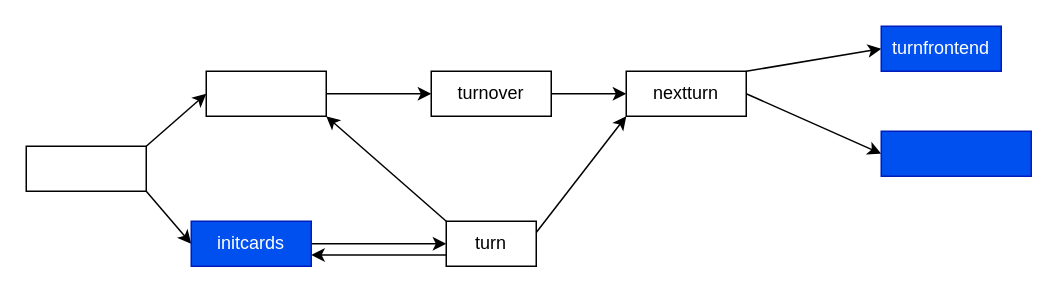
Image size: 1058x294. Some labels were removed from this diagram. The centre of each missing label's shape, as x and y in pixels:
counterfrontend: the point at 955,153
startcounter: the point at 265,93
Startgame: the point at 85,168
